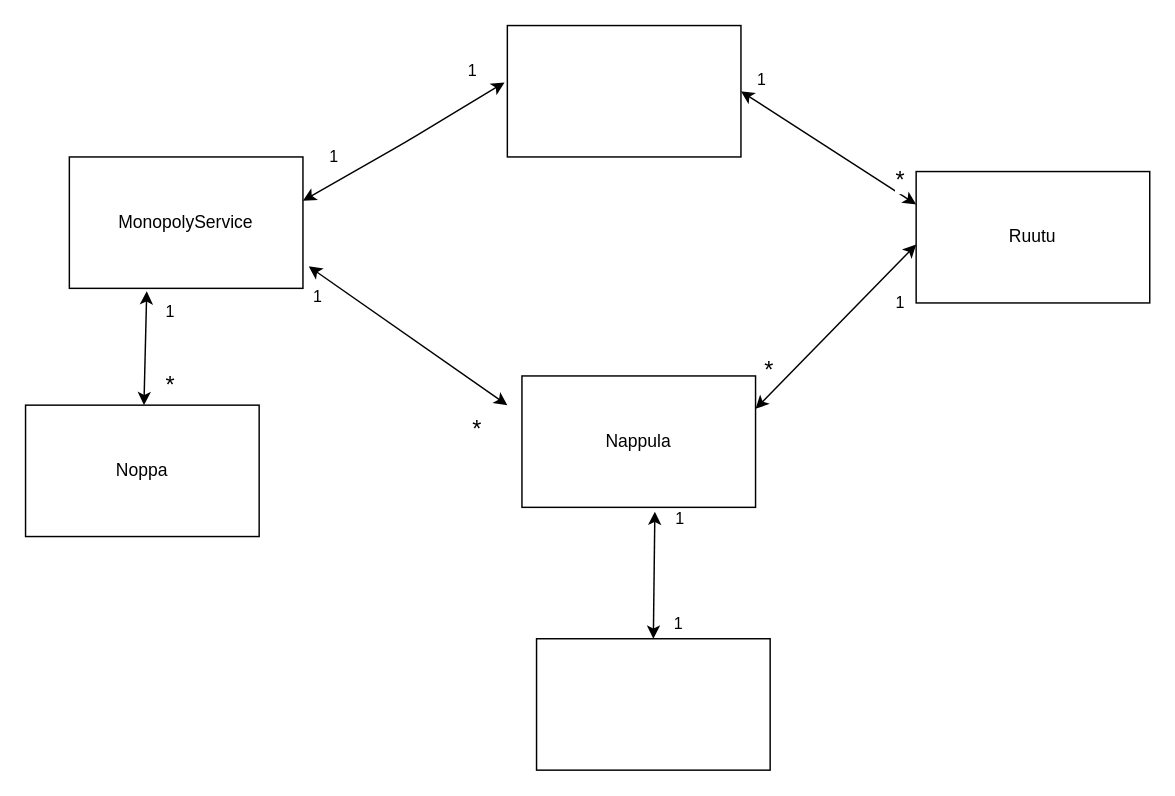
This 1175x796 diagram has some shape labels left out. Here are the shapes that lost their labels. From the top down, the box of each, then its label:
(506, 24, 741, 157): Lauta
(535, 637, 770, 770): Pelaaja
